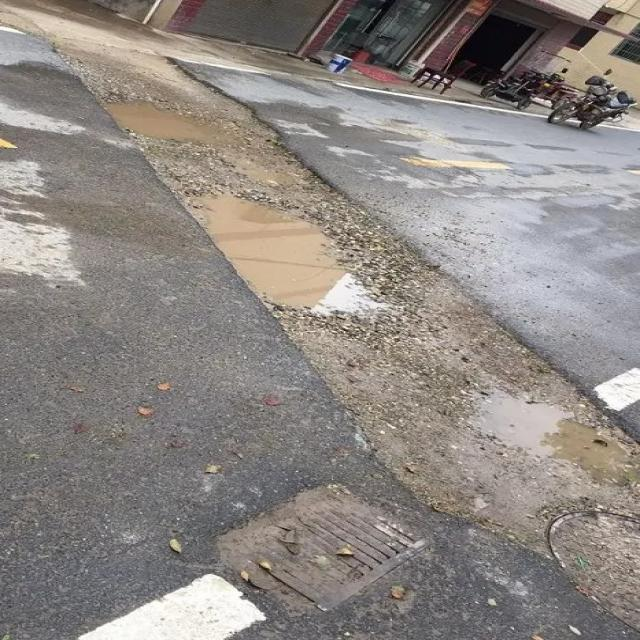Pothole: (173, 183, 414, 324), (219, 482, 432, 617), (92, 94, 259, 152)
